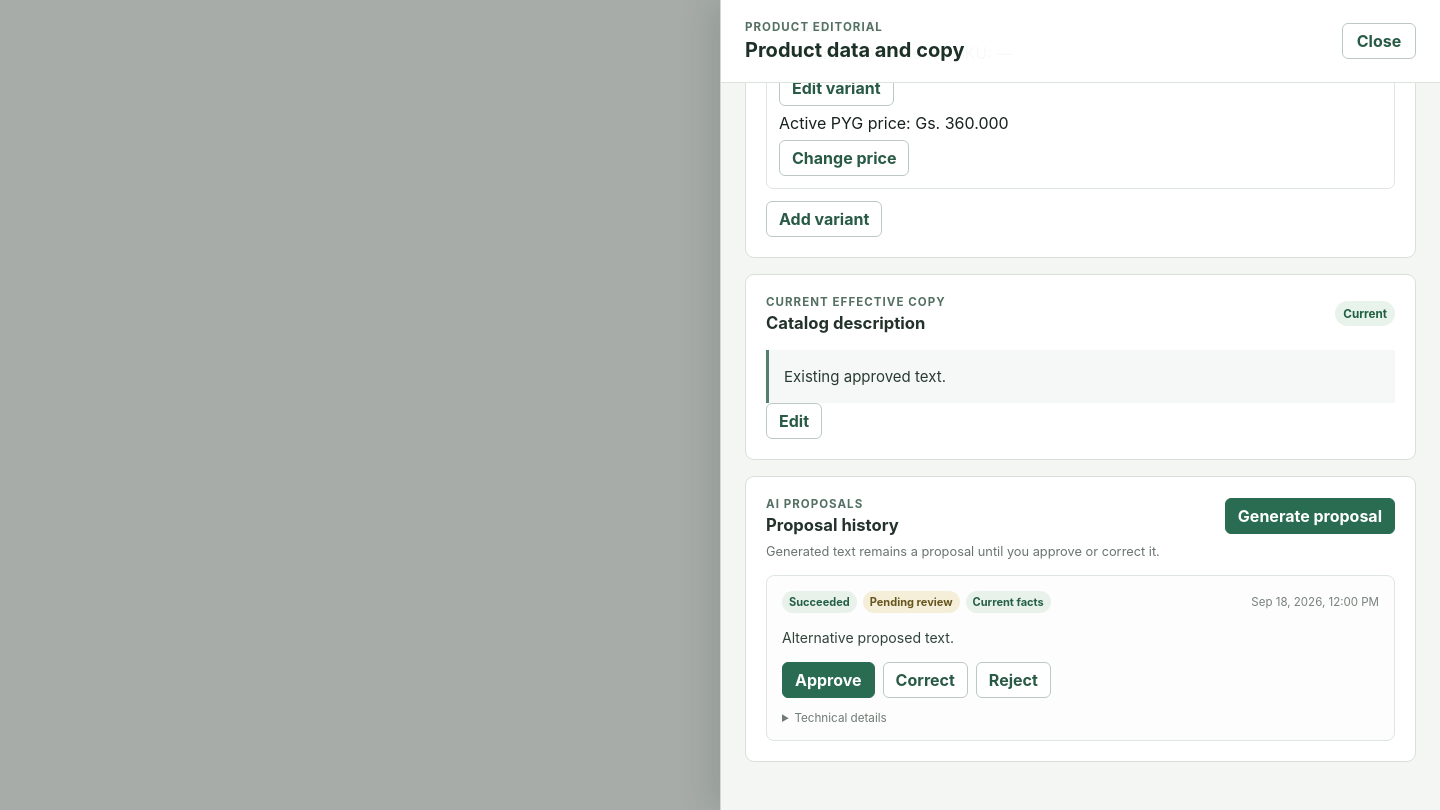
Test: ProductEditorialDrawer › approves a proposal and removes one-time review actions
(page scrolled)
Click the button "Approve": (828, 680) [782,662,875,698]
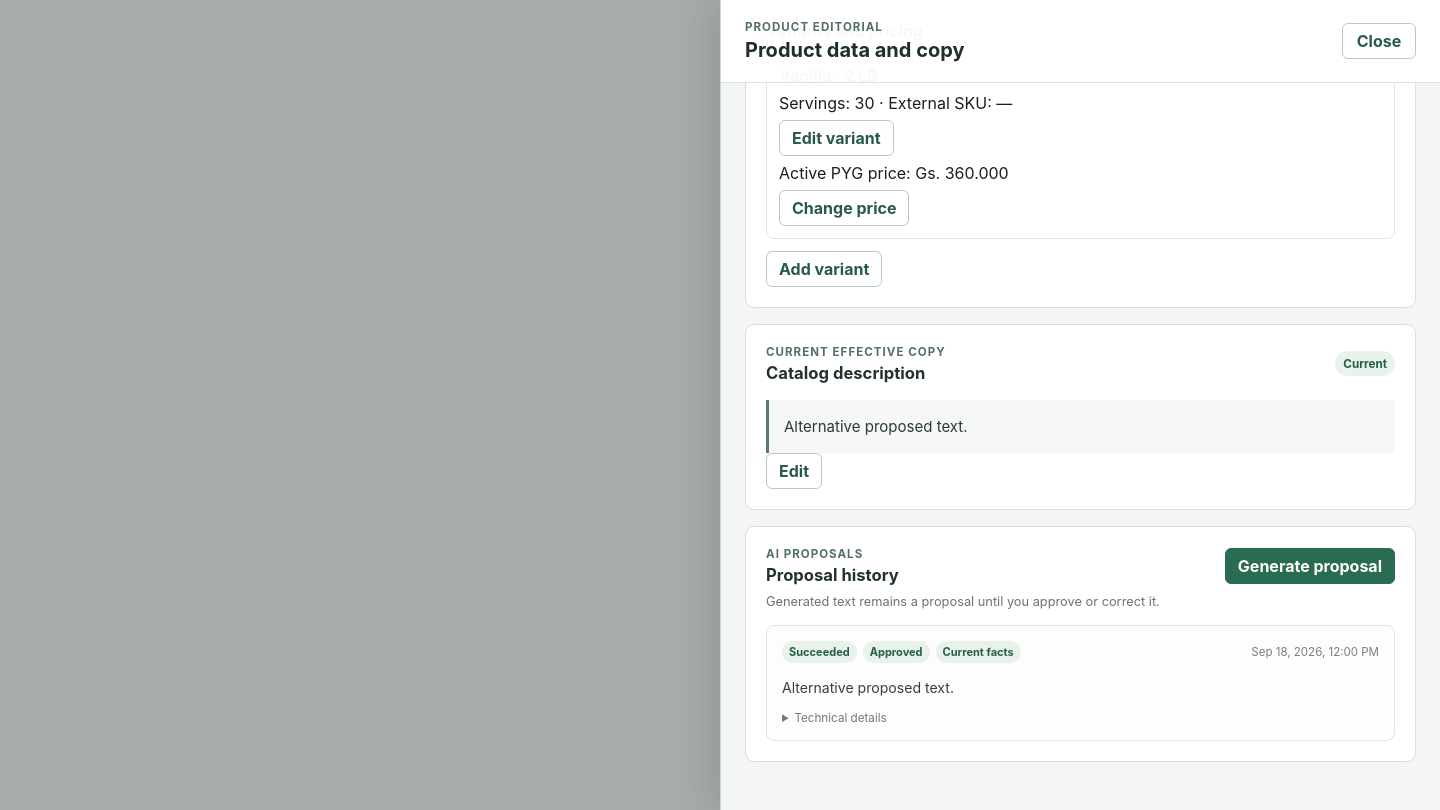
Result: the text "Alternative proposed text." below "Catalog description" is shown at [784,417,968,436]
